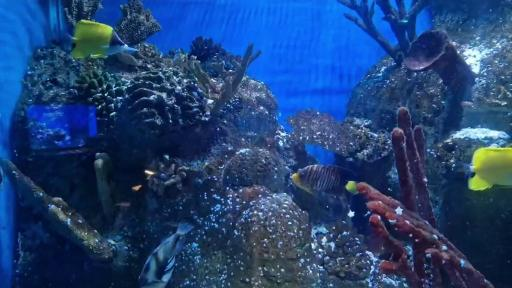Fish: (146, 223, 191, 284), (71, 20, 138, 58), (468, 147, 512, 191), (292, 165, 358, 194)
